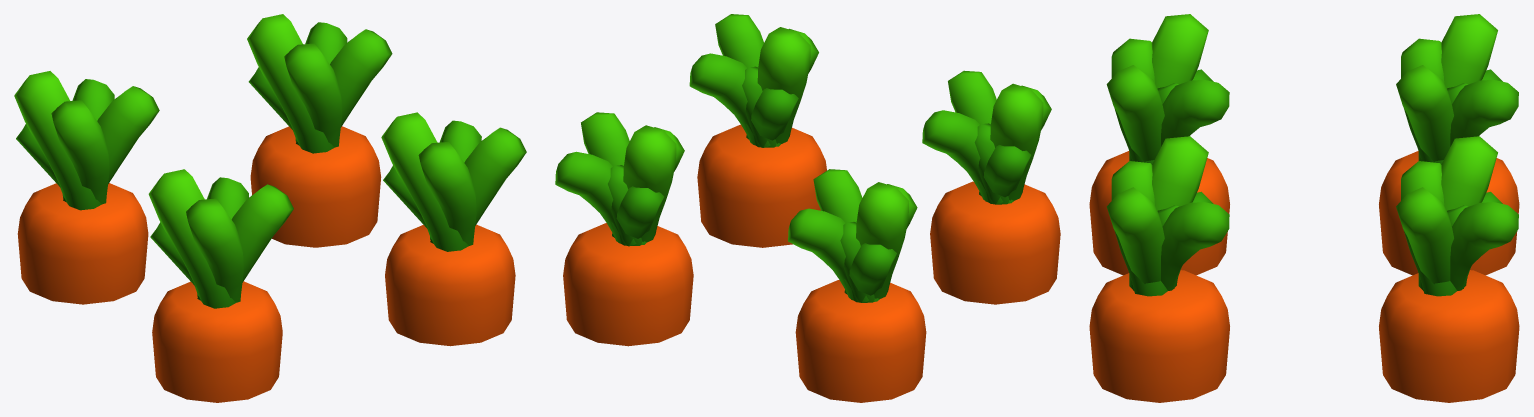
Rendered from Farm_Crop_Carrot_Step_02.fbx.
3 views of the same model, side by side, from view 1: azimuth 30°, elevation 25°; view 2: azimuth 150°, elevation 25°; view 3: azimuth 270°, elevation 25° (orthographic). The views are drawn at different scales.
Visible parts, largest first — view 1: Farm_Crop_Carrot_Step_02; view 2: Farm_Crop_Carrot_Step_02; view 3: Farm_Crop_Carrot_Step_02.
Part boxes in pixels (x1=…): Farm_Crop_Carrot_Step_02: x1=14, y1=14, x2=526, y2=402; Farm_Crop_Carrot_Step_02: x1=555, y1=14, x2=1060, y2=402; Farm_Crop_Carrot_Step_02: x1=1089, y1=14, x2=1519, y2=402.
Size of the model in its own units: 150 by 83.33 by 149.
